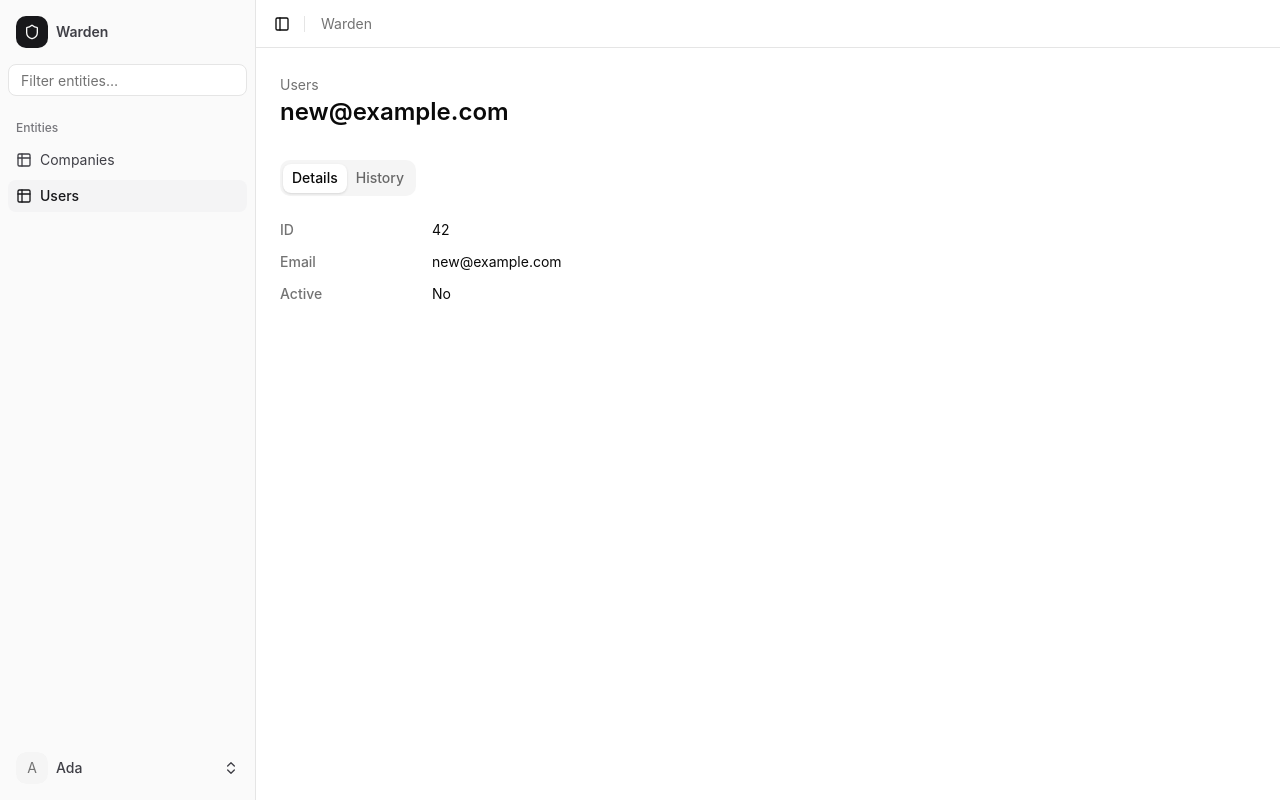
it: record history tab › lists the record’s changes with before and after values
Click the tab "History" at (380, 178), box x1=347 y1=164 x2=413 y2=192
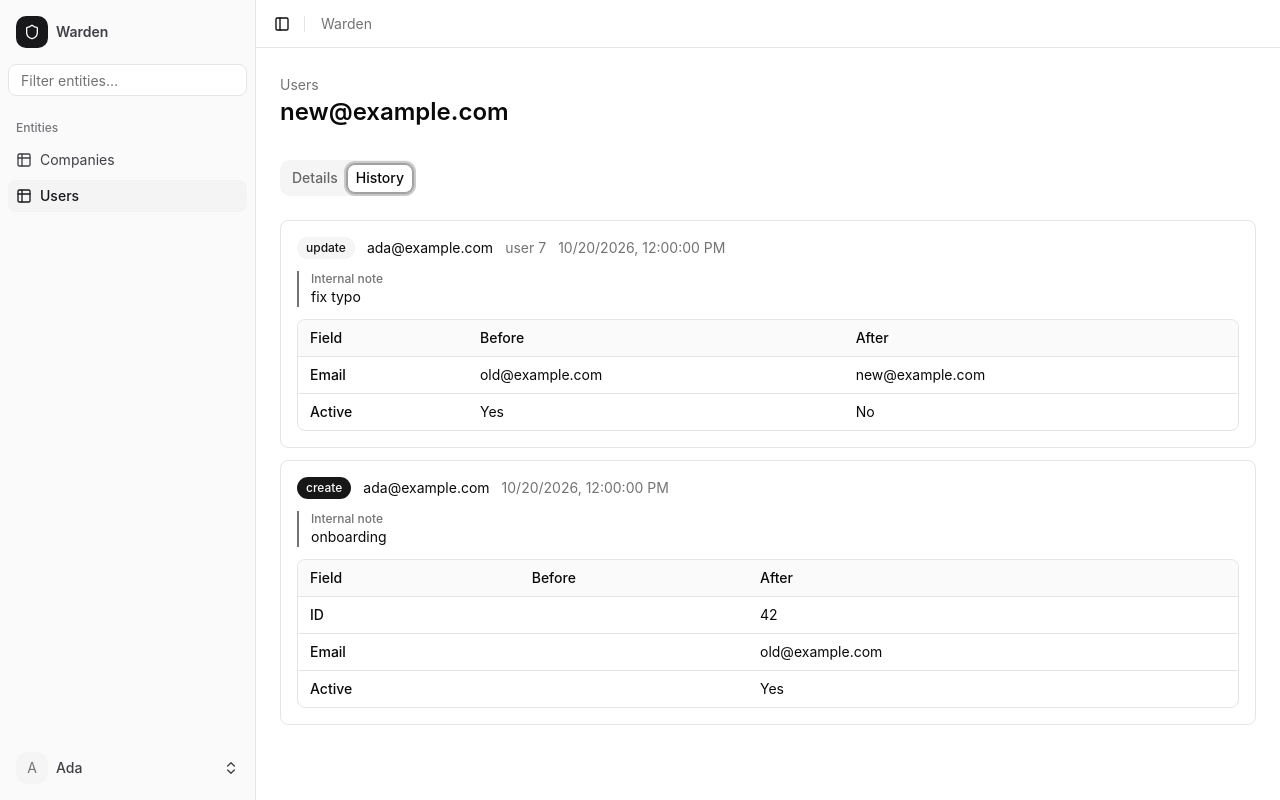
expect the text "user 7" is shown: met, box x1=505 y1=238 x2=546 y2=258
expect the text "fix typo" is shown: met, box x1=311 y1=288 x2=361 y2=305
expect the text "Internal note" below "update" is shown: met, box x1=311 y1=271 x2=383 y2=286
